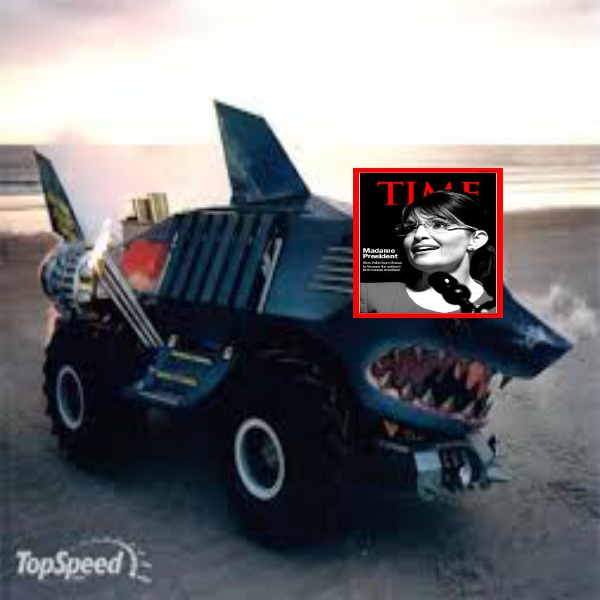time_cover: (354, 166, 503, 318)
